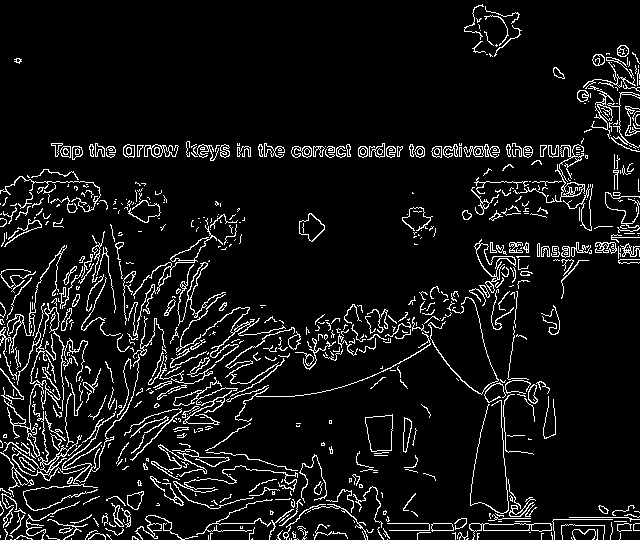down: (395, 202, 435, 238)
left: (121, 194, 167, 234), (201, 210, 245, 251)
right: (290, 204, 332, 249)
